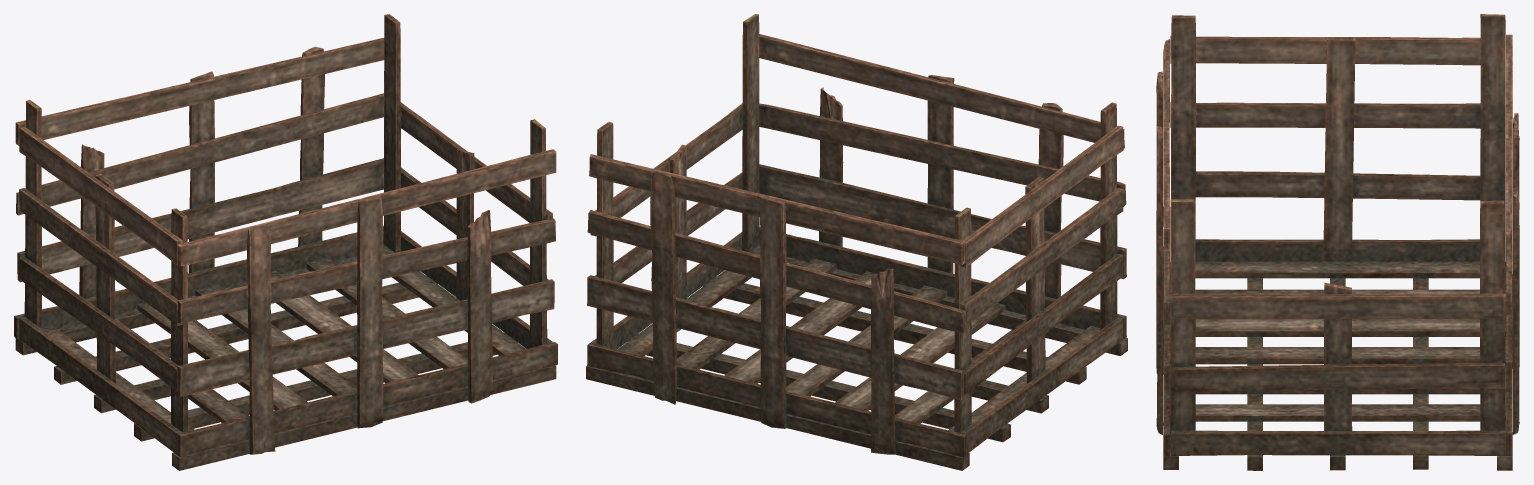
Rendered from SM_Crate06.fbx.
3 views of the same model, side by side, from view 1: azimuth 30°, elevation 25°; view 2: azimuth 150°, elevation 25°; view 3: azimuth 270°, elevation 25° (orthographic). The views are drawn at different scales.
Parts seen in each view (by area): view 1: SM_Crate04_C.mo; view 2: SM_Crate04_C.mo; view 3: SM_Crate04_C.mo.
Part boxes in pixels (box(x1,y1,x2,y2)): SM_Crate04_C.mo: box(14, 14, 557, 470); SM_Crate04_C.mo: box(586, 14, 1127, 470); SM_Crate04_C.mo: box(1156, 14, 1519, 470).
Size of the model in its own units: 202 by 128 by 158.
